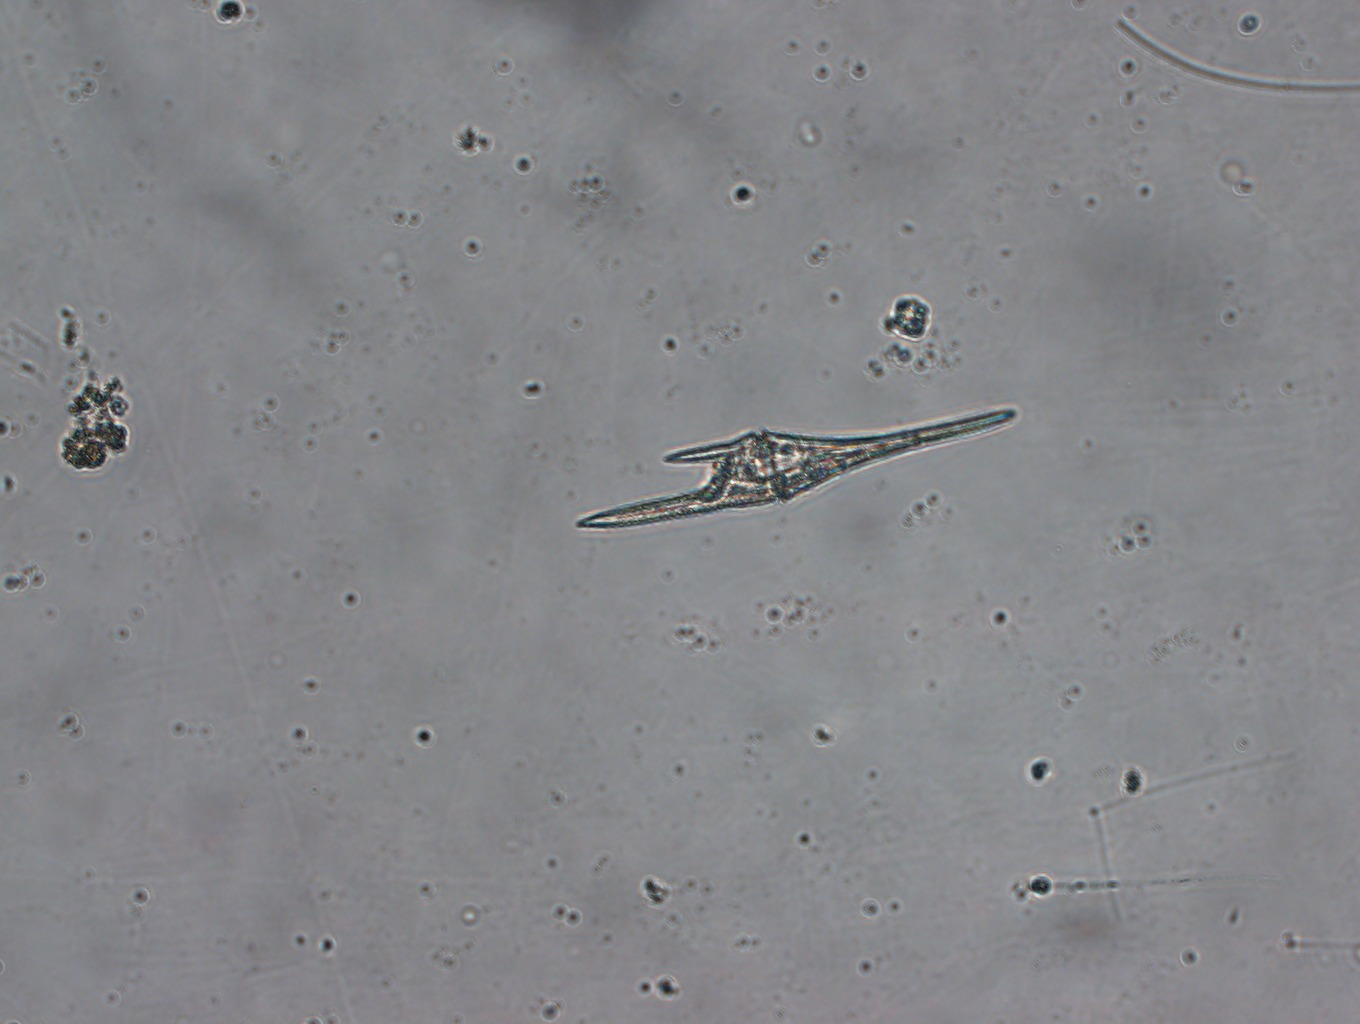ceratium furca: (574, 407, 1019, 531)
